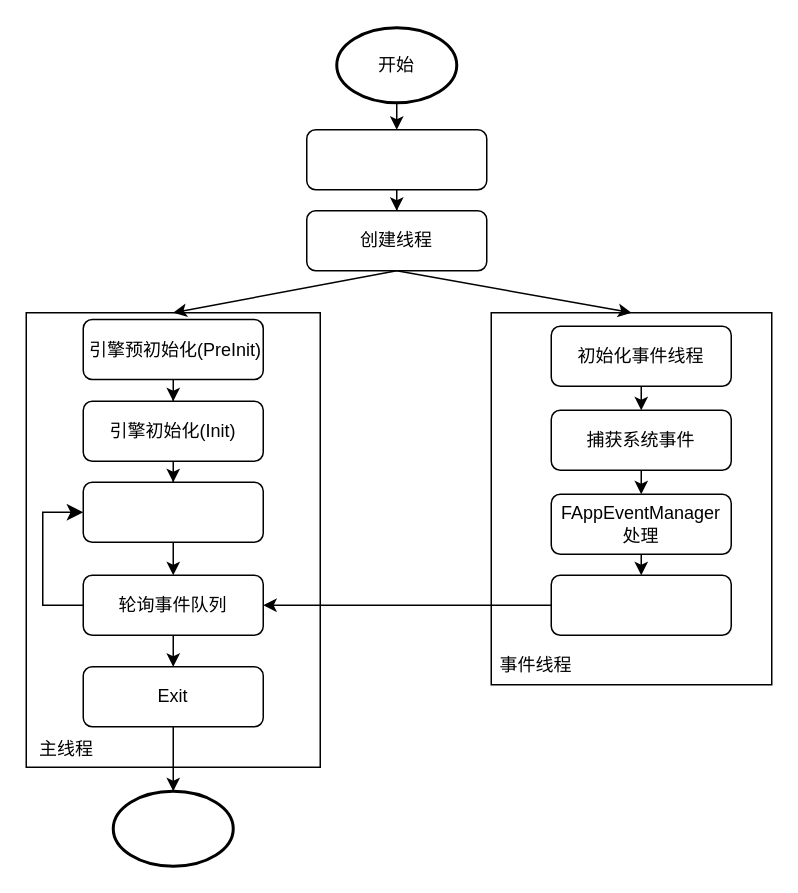
Image size: 798x893. Some labels were removed from this diagram. Each missing label, with the box of its shape:
openHarmony_main(): (305, 128, 487, 190)
主循环(Tick): (82, 481, 263, 542)
事件队列: (550, 574, 731, 635)
结束: (111, 789, 234, 867)
